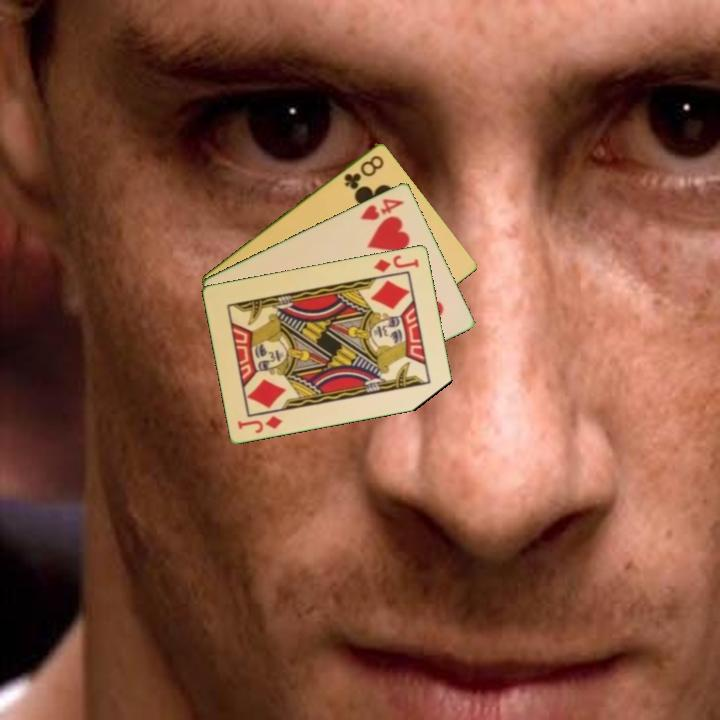4h: (356, 195, 407, 223)
8c: (340, 151, 387, 192)
Jd: (370, 251, 422, 275), (234, 412, 286, 436)
